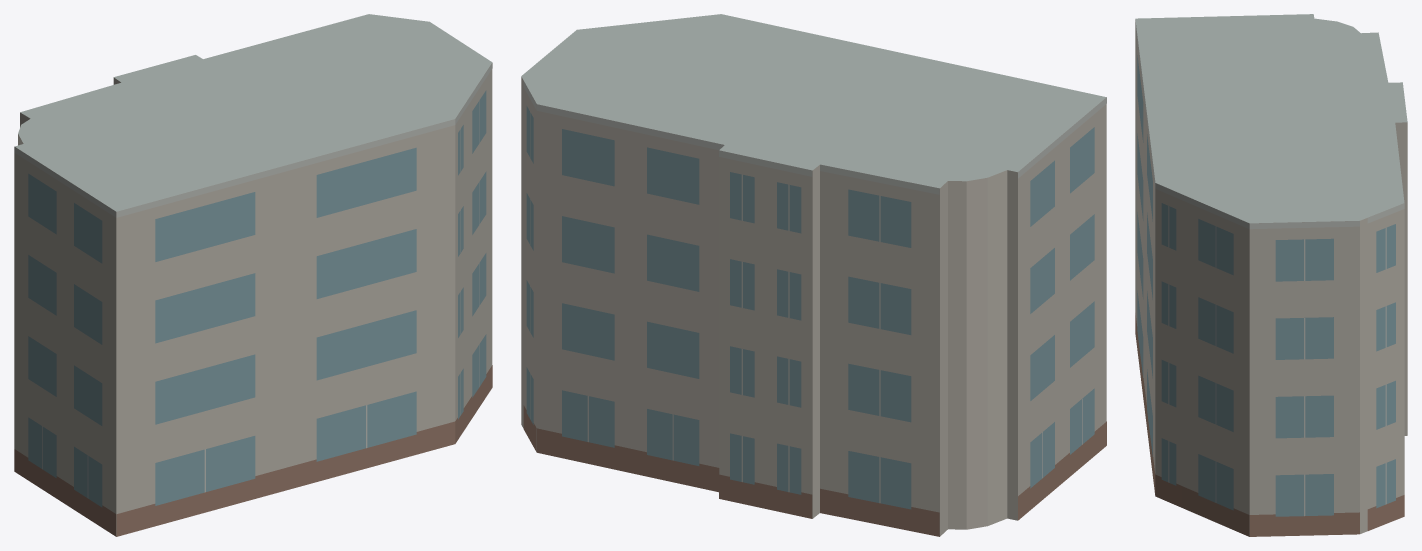
File: survey-upis-32909656.glb
3 renders of one model, left to right at view 1: azimuth 30°, elevation 25°; view 2: azimuth 150°, elevation 25°; view 3: azimuth 270°, elevation 25°, orthographic. The views are drawn at different scales.
Parts seen in each view (by area): view 1: survey-upis-32909656.tmp; view 2: survey-upis-32909656.tmp; view 3: survey-upis-32909656.tmp.
Boxes of the visible parts, x1=… form: survey-upis-32909656.tmp: x1=14, y1=14, x2=492, y2=536; survey-upis-32909656.tmp: x1=521, y1=14, x2=1106, y2=536; survey-upis-32909656.tmp: x1=1135, y1=14, x2=1407, y2=536.
Size of the model in its own units: 18.62 by 13 by 10.24.
